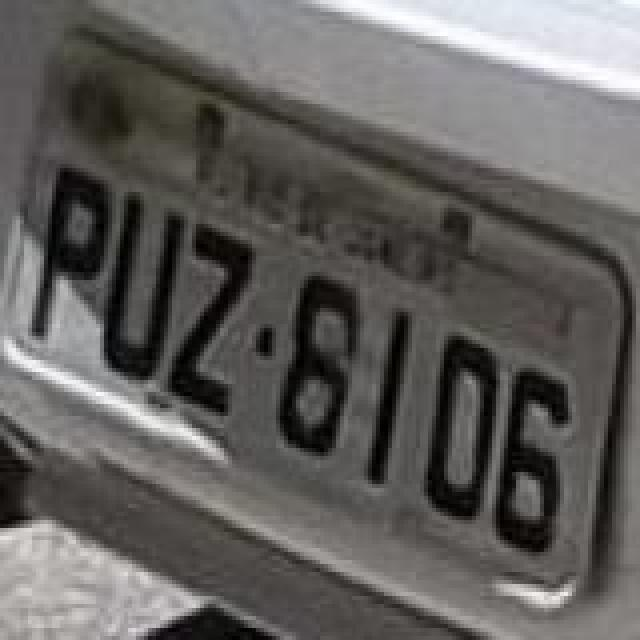1: (362, 310, 414, 490)
6: (492, 368, 572, 560)
8: (276, 274, 364, 462)
O: (420, 336, 500, 528)
P: (30, 164, 114, 340)
U: (98, 192, 190, 384)
Z: (162, 220, 254, 420)
